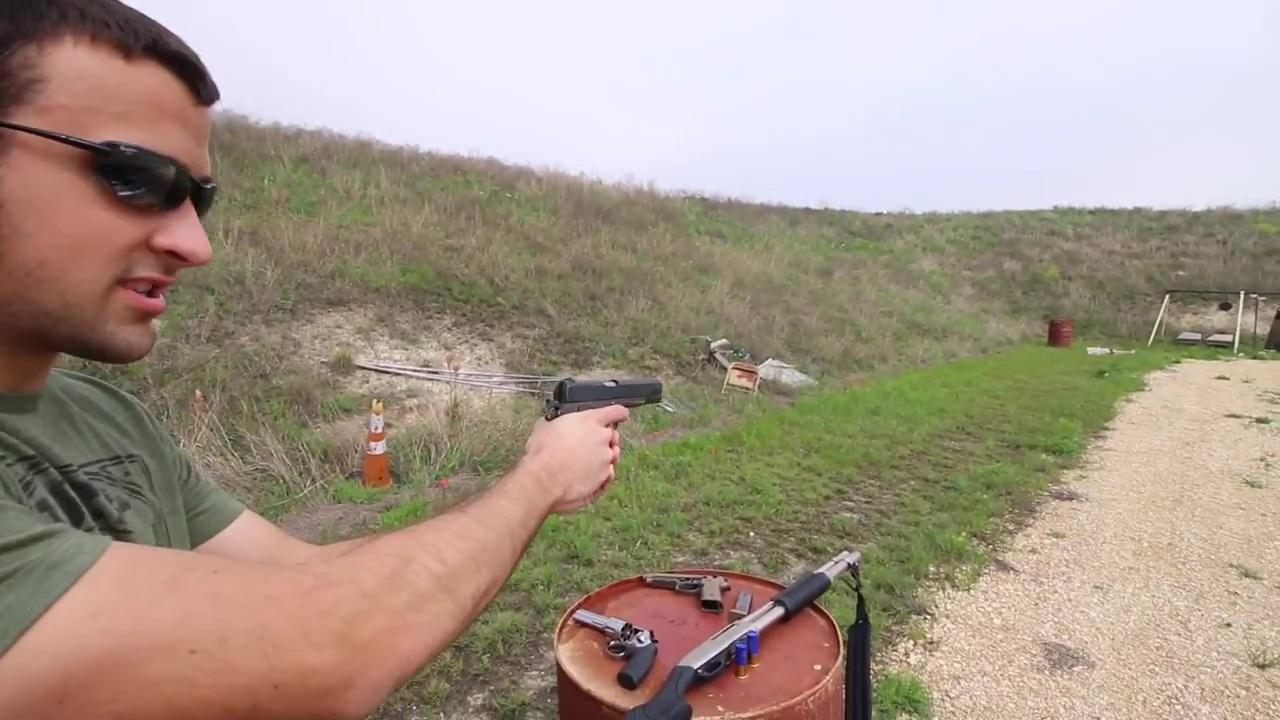weapon: (536, 363, 670, 429), (570, 602, 659, 687), (643, 563, 736, 609)
